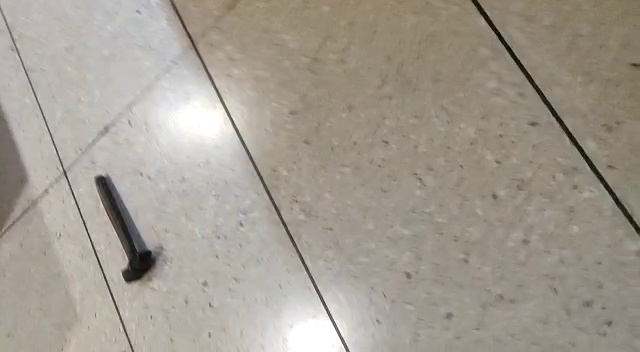hammer: (92, 174, 153, 284)
